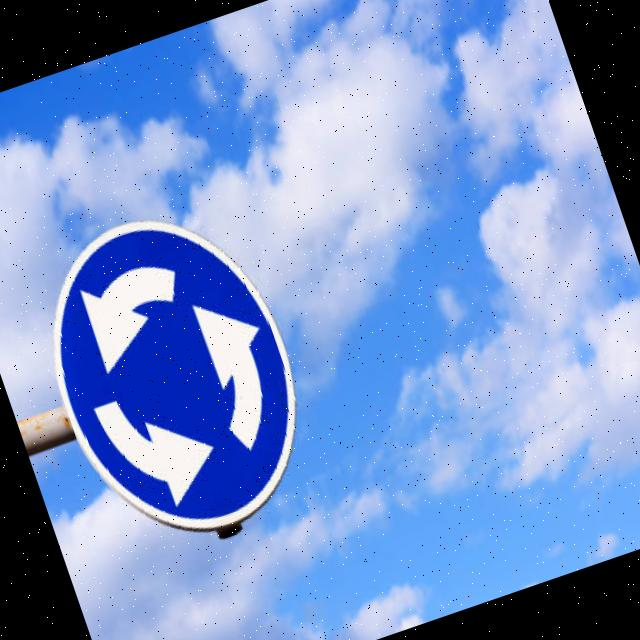round_about: (8, 180, 340, 569)
